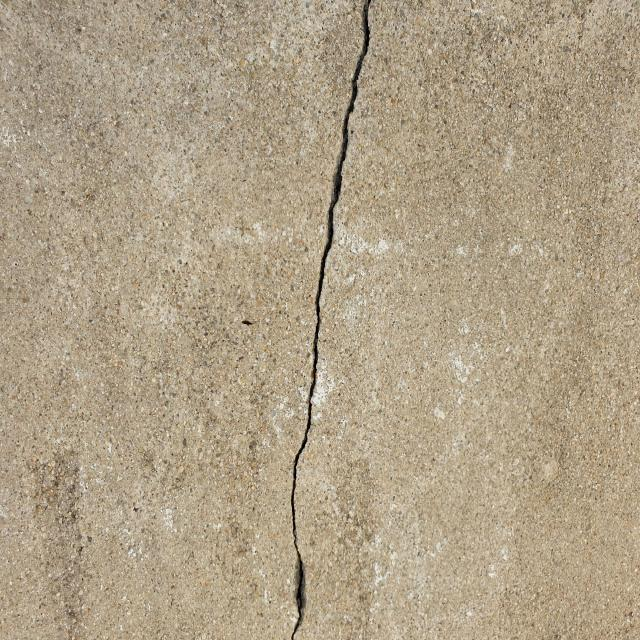SurfaceCrack: (240, 0, 416, 640)
